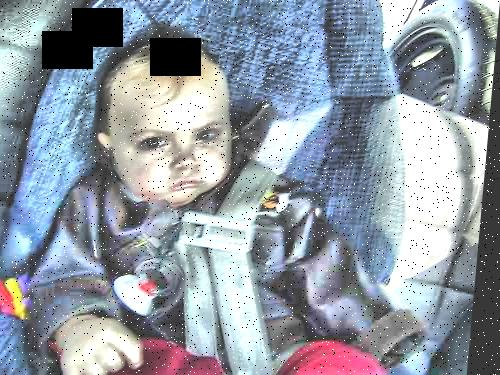seatbelt: (206, 150, 302, 364)
